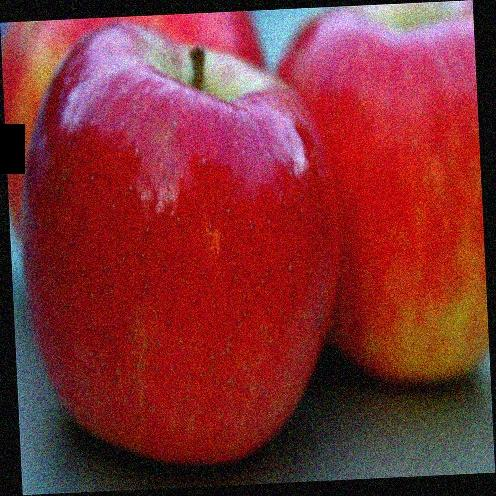red apple: (24, 20, 333, 468)
